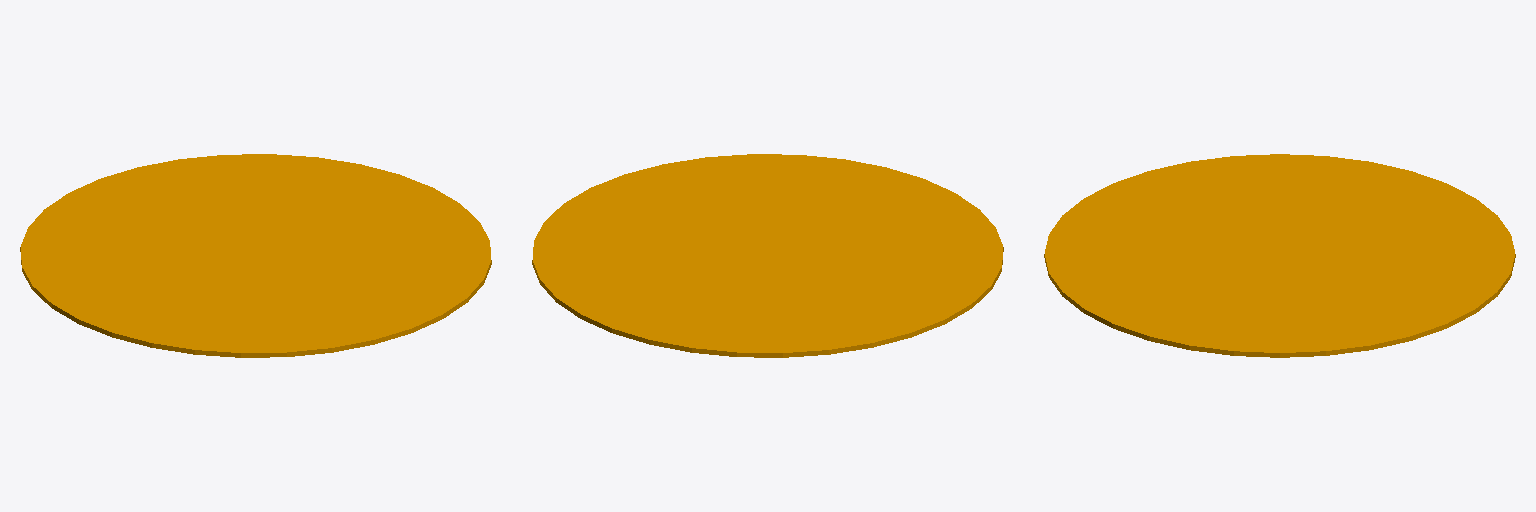
URDF robot description (plate):
<?xml version="1.0"?>
<robot name="plate" xmlns:xacro="http://www.ros.org/wiki/xacro">
  <link name="plate">
    <visual>
      <geometry>
        <cylinder length="0.001" radius="0.045"/>
      </geometry>
      <material name="black"/>
    </visual>
    <collision>
      <geometry>
        <cylinder length="0.001" radius="0.045"/>
      </geometry>
    </collision>
  </link>
</robot>

--- What the picture shows (computed from the rendered views, not written in the file) ---
Views: 3 orthographic renders of the robot side by side, from view 1: azimuth 30°, elevation 25°; view 2: azimuth 150°, elevation 25°; view 3: azimuth 270°, elevation 25°.
Robot: plate — 1 links, 0 joints (none); root link plate; default pose: all joints at 0.
Visible links, largest first — view 1: plate; view 2: plate; view 3: plate.
Link boxes in pixels (box(x1,y1,x2,y2)): plate: box(20, 154, 491, 357); plate: box(532, 154, 1003, 357); plate: box(1044, 154, 1515, 357).
Size in the robot's own frame: 0.09 by 0.09 by 0.001 metres.
Geometry: primitives only (box / cylinder / sphere), no mesh files.
